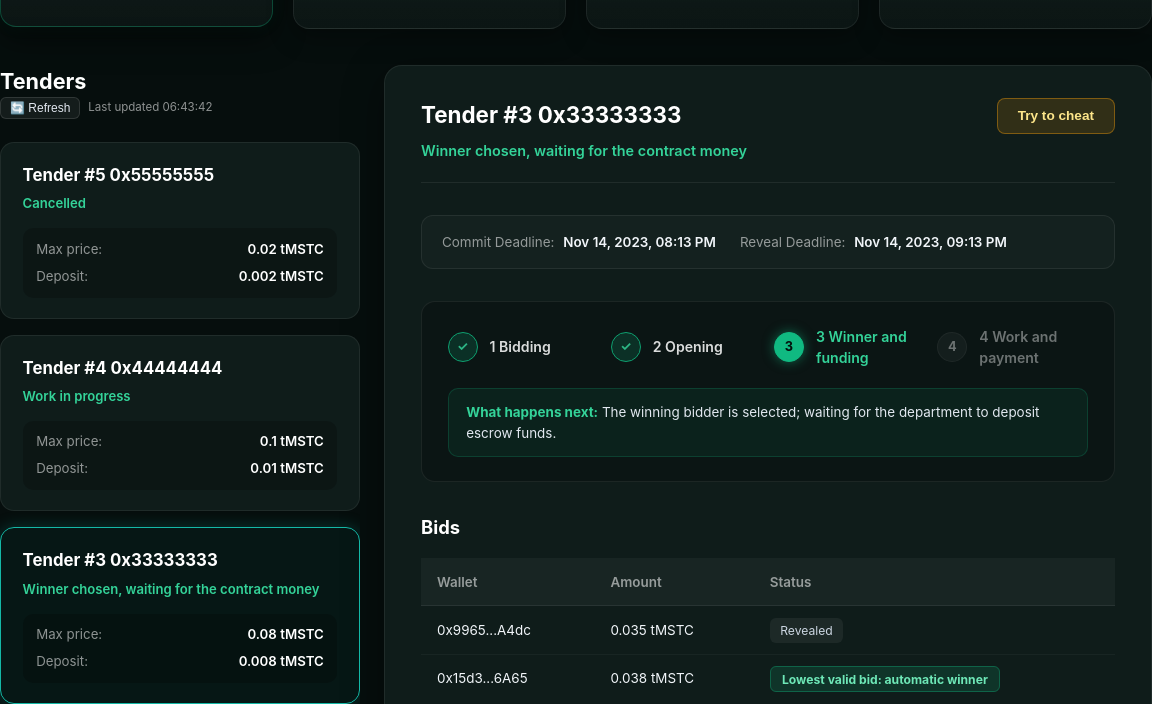
Test: PublicAuditTab Component Tests › Cheat Test B: Additional Security Precondition Cases › Case I: displays cannot verify duplicate-bid protection when tender status is not open
This screenshot has width=1152, height=704.
(page scrolled)
Click the button "Try to cheat". click: (1056, 116)
box: [997,98,1115,134]
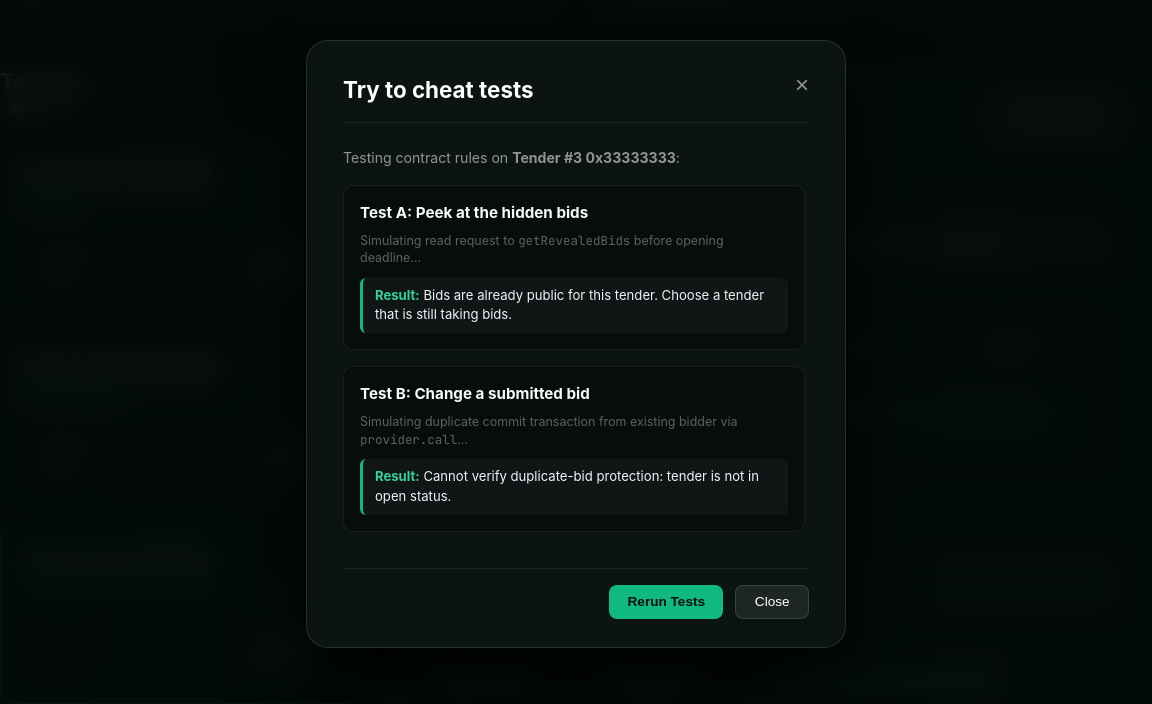
Result: the text "Cannot verify duplicate-bid protection: tender is not in open status" is shown at [375,468,759,504]
